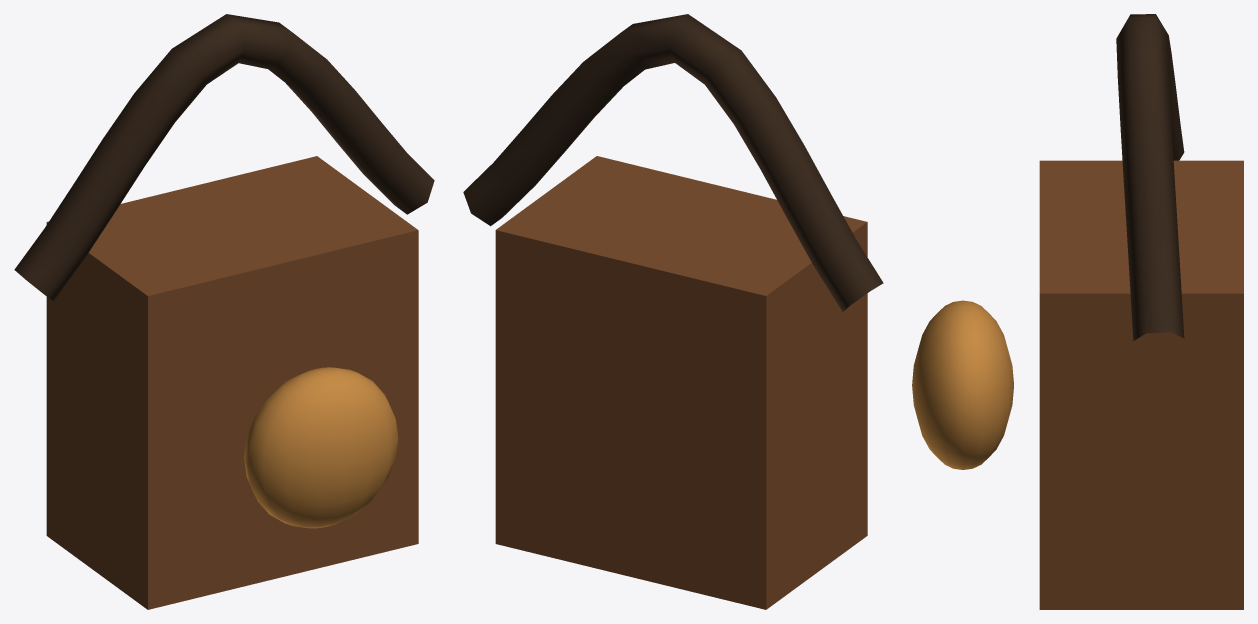
The model's file is mia-talisman.glb.
3 views of the same model, side by side, from view 1: azimuth 30°, elevation 25°; view 2: azimuth 150°, elevation 25°; view 3: azimuth 270°, elevation 25° (orthographic).
Visible parts, largest first — view 1: Body_rust, Body_grain, Body_brass; view 2: Body_rust, Body_grain; view 3: Body_rust, Body_grain, Body_brass.
Boxes of the visible parts, x1,y1,x2,y2 form: Body_rust: (46,156,418,609); Body_grain: (14,14,434,300); Body_brass: (244,367,398,528); Body_rust: (495,156,867,609); Body_grain: (463,14,883,311); Body_rust: (1039,160,1243,609); Body_grain: (1116,14,1184,340); Body_brass: (912,300,1013,469).
Size of the model in its own units: 0.0559 by 0.0681 by 0.039.
